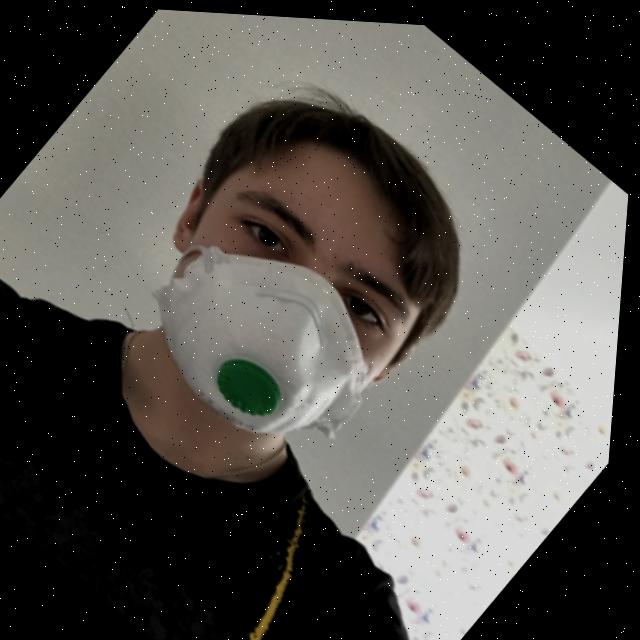Mask: (79, 148, 439, 488)
